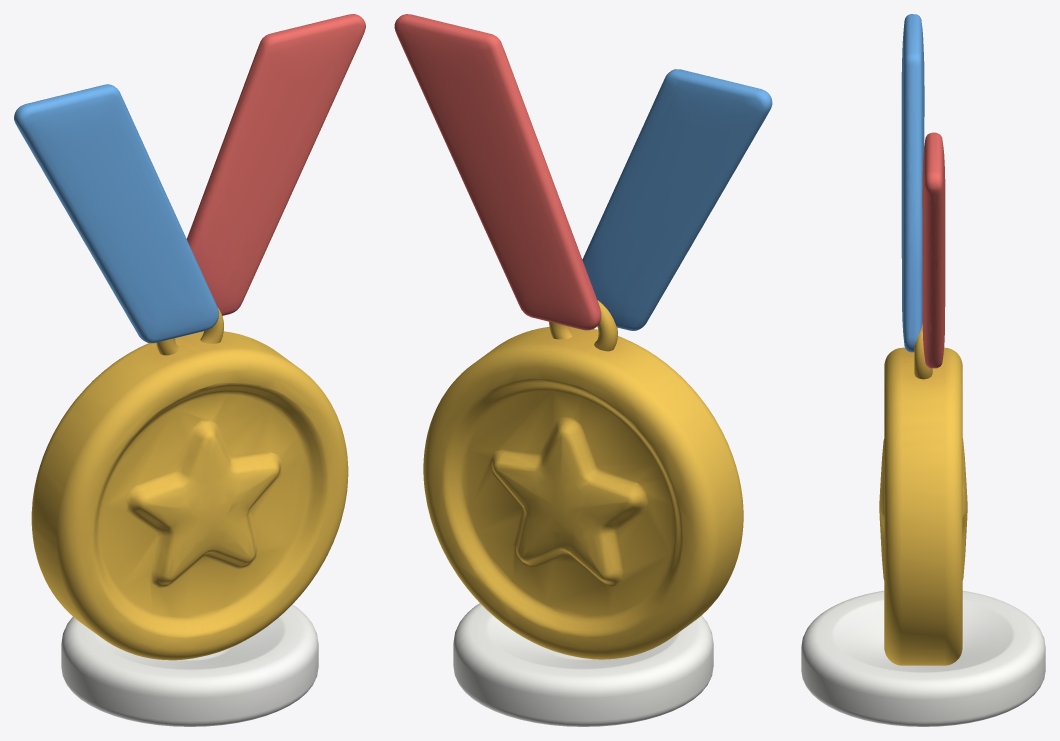
Rendered from medal-M8.glb.
3 views of the same model, side by side, from view 1: azimuth 30°, elevation 25°; view 2: azimuth 150°, elevation 25°; view 3: azimuth 270°, elevation 25° (orthographic). The views are drawn at different scales.
Visible parts, largest first — view 1: medal-pickup_rotor, medal-pickup_body; view 2: medal-pickup_rotor, medal-pickup_body; view 3: medal-pickup_rotor, medal-pickup_body.
Part boxes in pixels (left/top/right/bottom): medal-pickup_rotor: left=14, top=14, right=365, bottom=660; medal-pickup_body: left=61, top=604, right=318, bottom=726; medal-pickup_rotor: left=394, top=14, right=772, bottom=659; medal-pickup_body: left=453, top=603, right=713, bottom=726; medal-pickup_rotor: left=879, top=14, right=967, bottom=665; medal-pickup_body: left=801, top=591, right=1045, bottom=726.
Size of the model in its own units: 0.3225 by 0.528 by 0.2.
Materials: 2 (2 with a texture image).
